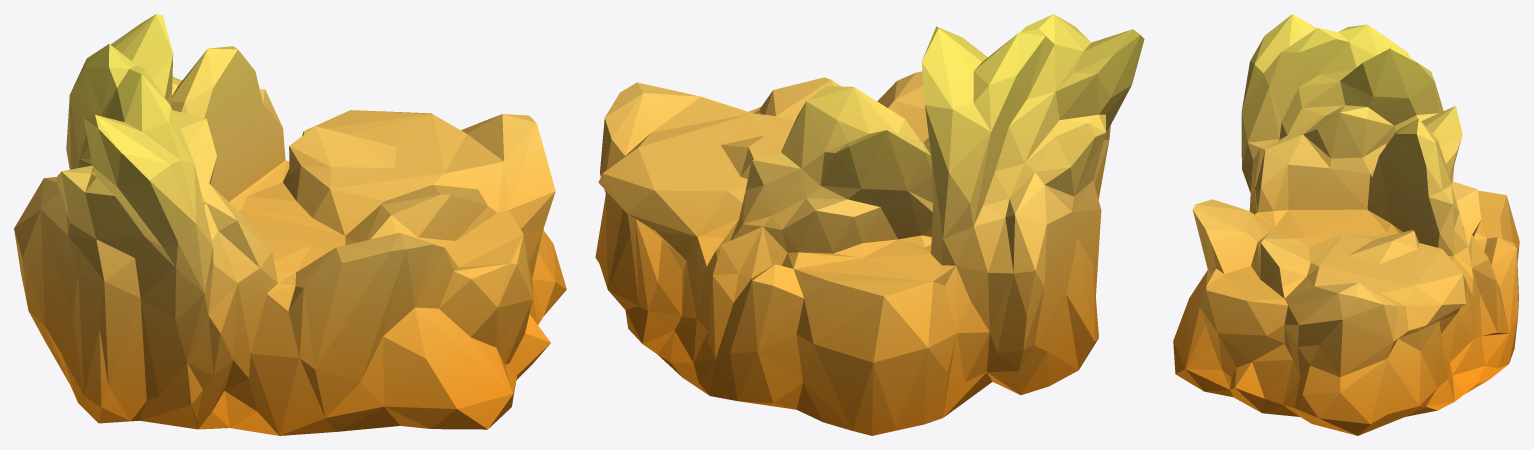
The model's file is SM_Rock_4.fbx.
3 views of the same model, side by side, from view 1: azimuth 30°, elevation 25°; view 2: azimuth 150°, elevation 25°; view 3: azimuth 270°, elevation 25° (orthographic). The views are drawn at different scales.
Parts seen in each view (by area): view 1: Rock_4; view 2: Rock_4; view 3: Rock_4.
Part boxes in pixels (x1,y1,x2,y2): Rock_4: [14, 14, 566, 435]; Rock_4: [595, 14, 1144, 435]; Rock_4: [1173, 14, 1519, 435].
Bounding box in the file's own units: 992 × 680 × 812.
